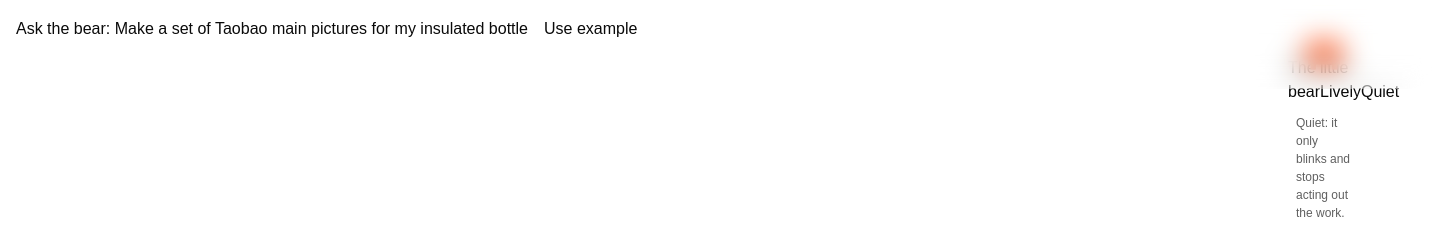
Scenario: 「使用示例」 on the home composer › a click fills in the example and its skill, back in the box with the caret at the end
Click the button "Use example" at (591, 29), box [536, 16, 645, 42]
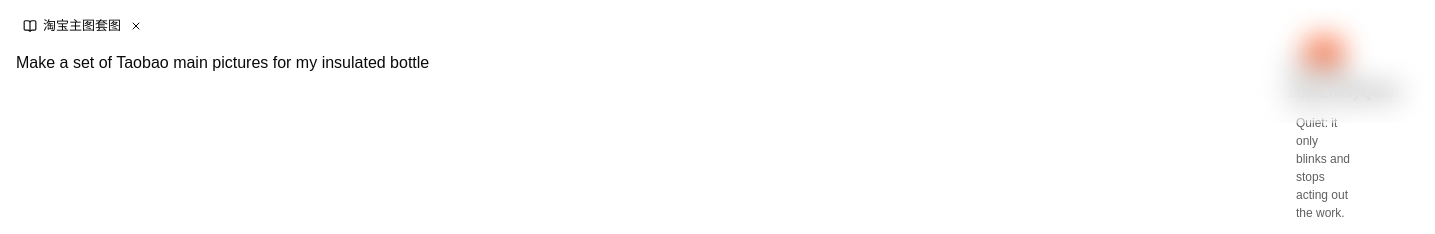
Result: the text box named "Describe what you want to design" holds "Make a set of Taobao main pictures for my insulated bottle" at [16, 46, 1418, 105]
Result: the button "Use example" is gone
Result: the button named "Remove this skill" is shown at [127, 17, 145, 35]
